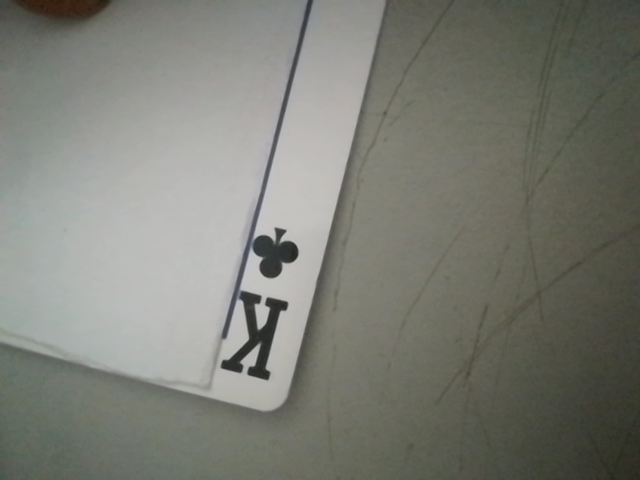mh k: (210, 220, 318, 398)
